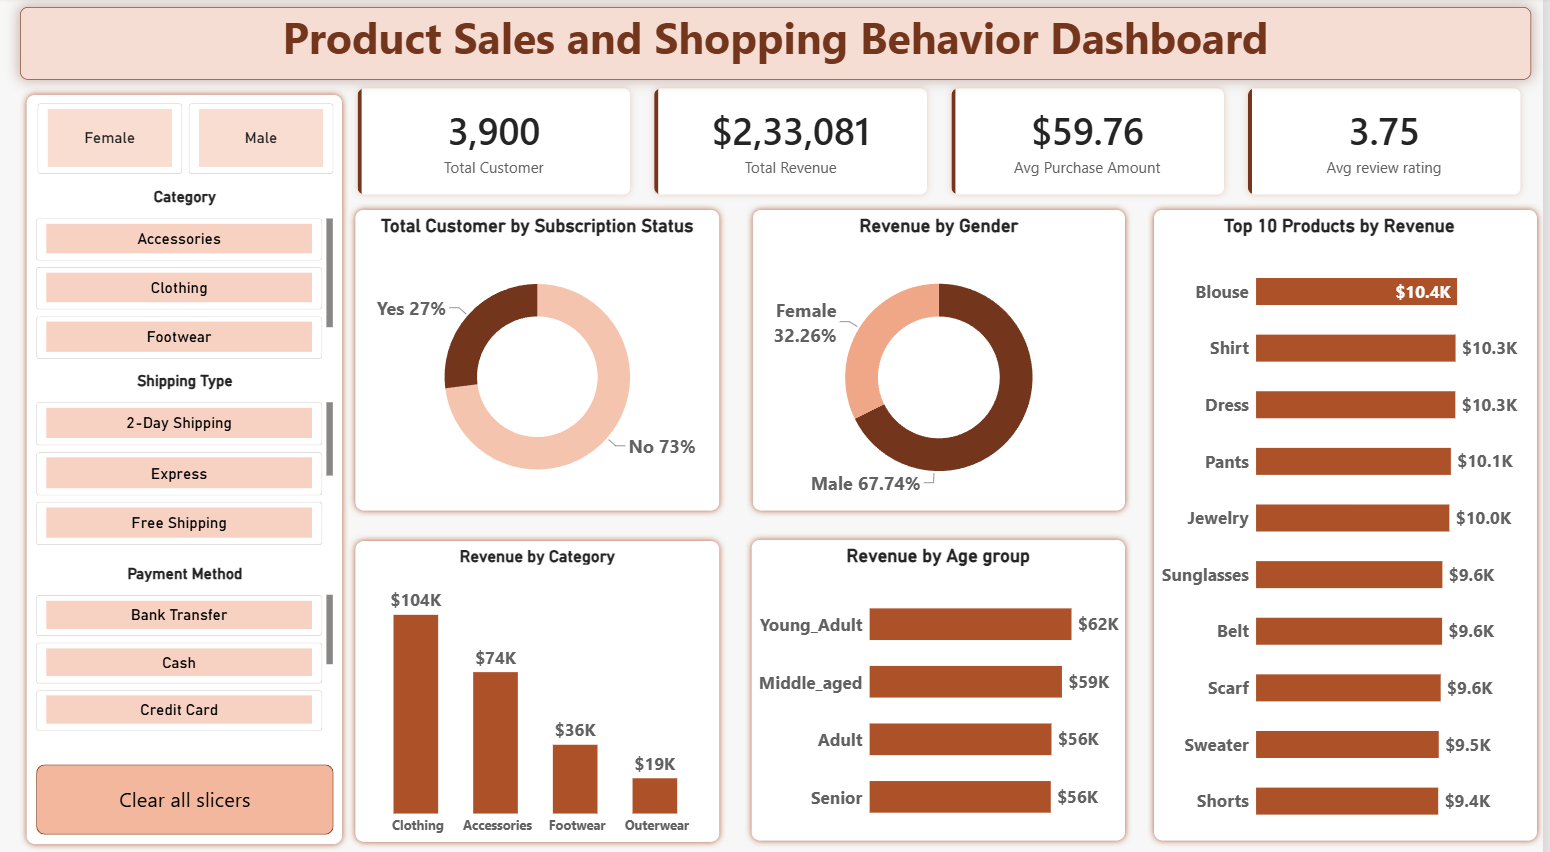

What the dashboard file says about the page in this screenshot:
{"tool":"powerbi","page":{"name":"Page 1","canvas":[1920,1080],"ordinal":0},"visuals":[{"type":"shape","box":[25.1,113.9,408.7,948],"z":0},{"type":"shape","box":[1427.1,256.3,492.4,800.6],"z":1000},{"type":"shape","box":[926.2,666.6,480.7,390.3],"z":2000},{"type":"shape","box":[433.8,668.3,469,390.3],"z":3000},{"type":"shape","box":[927.9,256.3,479,390.3],"z":4000},{"type":"shape","box":[433.8,256.3,469,390.3],"z":5000},{"type":"cardVisual","fields":{"Data":["customer_behavior customer.Total Customer","customer_behavior customer.Total Revenue","customer_behavior customer.Avg Purchase Amount","customer_behavior customer.Avg review rating"]},"box":[433.8,102.2,1470.6,154.1],"z":6000},{"type":"textbox","box":[25.1,11.7,1879.3,90.4],"z":7000},{"type":"donutChart","title":"Total Customer by Subscription Status","fields":{"Category":["customer_behavior customer.subscription_status"],"Y":["customer_behavior customer.Total Customer"]},"box":[433.8,256.3,469,390.3],"z":8000},{"type":"clusteredColumnChart","title":"Revenue by Category","fields":{"Category":["customer_behavior customer.category"],"Y":["customer_behavior customer.Total Revenue"]},"box":[433.8,668.3,469,393.6],"z":9000},{"type":"clusteredBarChart","title":"Revenue by Age group","fields":{"Category":["customer_behavior customer.age_group"],"Y":["customer_behavior customer.Total Revenue"]},"box":[926.2,666.6,480.7,395.3],"z":10000},{"type":"donutChart","title":"Revenue by Gender","fields":{"Category":["customer_behavior customer.gender"],"Y":["customer_behavior customer.Total Revenue"]},"box":[927.9,256.3,479,391.9],"z":11000},{"type":"clusteredBarChart","title":"Top 10 Products by Revenue","fields":{"Category":["customer_behavior customer.item_purchased"],"Y":["customer_behavior customer.Total Revenue"]},"box":[1427.1,256.3,477.4,805.6],"z":12000},{"type":"advancedSlicerVisual","fields":{"Values":["customer_behavior customer.gender"]},"box":[47.1,132.6,369.8,89],"z":13000},{"type":"advancedSlicerVisual","title":"Category","fields":{"Values":["customer_behavior customer.category"]},"box":[45.3,237.2,369.8,214.5],"z":14000},{"type":"advancedSlicerVisual","title":"Shipping Type","fields":{"Values":["customer_behavior customer.shipping_type"]},"box":[45.3,465.7,369.8,218],"z":15000},{"type":"advancedSlicerVisual","title":"Payment Method","fields":{"Values":["customer_behavior customer.payment_method"]},"box":[45.3,706.4,369.8,209.3],"z":16000},{"type":"actionButton","box":[45.3,954.1,369.8,87.2],"z":16001}]}

Visuals, with their boxes in screenshot pixels (x1, y1, x2, y2), scaled from the page's 1920x1080 canvas onto the 1550x852 screenshot:
shape: [20, 90, 350, 838]
shape: [1152, 202, 1549, 834]
shape: [748, 526, 1136, 834]
shape: [350, 527, 729, 835]
shape: [749, 202, 1136, 510]
shape: [350, 202, 729, 510]
cardVisual - customer_behavior customer.Total Customer x customer_behavior customer.Total Revenue: [350, 81, 1537, 202]
textbox: [20, 9, 1537, 81]
"Total Customer by Subscription Status" donutChart: [350, 202, 729, 510]
"Revenue by Category" clusteredColumnChart: [350, 527, 729, 838]
"Revenue by Age group" clusteredBarChart: [748, 526, 1136, 838]
"Revenue by Gender" donutChart: [749, 202, 1136, 511]
"Top 10 Products by Revenue" clusteredBarChart: [1152, 202, 1537, 838]
advancedSlicerVisual - customer_behavior customer.gender: [38, 105, 337, 175]
"Category" advancedSlicerVisual: [37, 187, 335, 356]
"Shipping Type" advancedSlicerVisual: [37, 367, 335, 539]
"Payment Method" advancedSlicerVisual: [37, 557, 335, 722]
actionButton: [37, 753, 335, 821]
